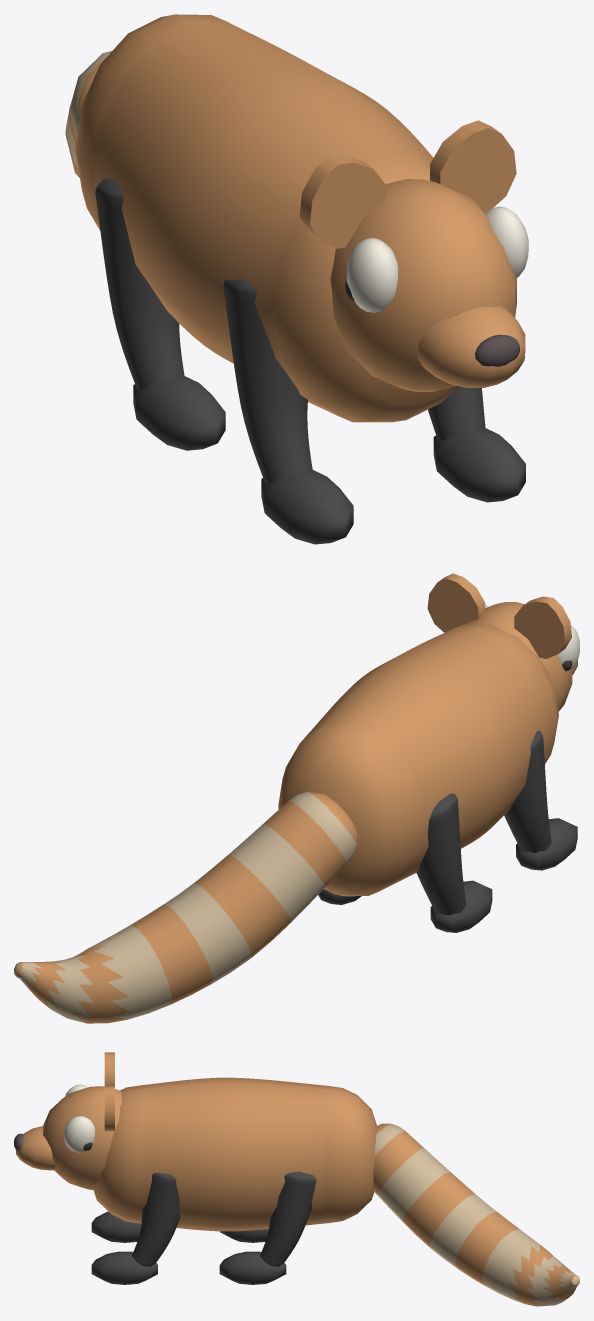
File: polar-tundra-and-alpine-fauna-red-panda-349a3e47__6067.glb
3 renders of one model, top to bottom at view 1: azimuth 30°, elevation 25°; view 2: azimuth 150°, elevation 25°; view 3: azimuth 270°, elevation 25°, orthographic. The views are drawn at different scales.
Visible parts, largest first — view 1: red-panda; view 2: red-panda; view 3: red-panda.
Part boxes in pixels (x1=…): red-panda: x1=65, y1=14, x2=528, y2=544; red-panda: x1=14, y1=573, x2=579, y2=1023; red-panda: x1=14, y1=1052, x2=579, y2=1306.
Size of the model in its own units: 0.4727 by 0.4449 by 1.2.
